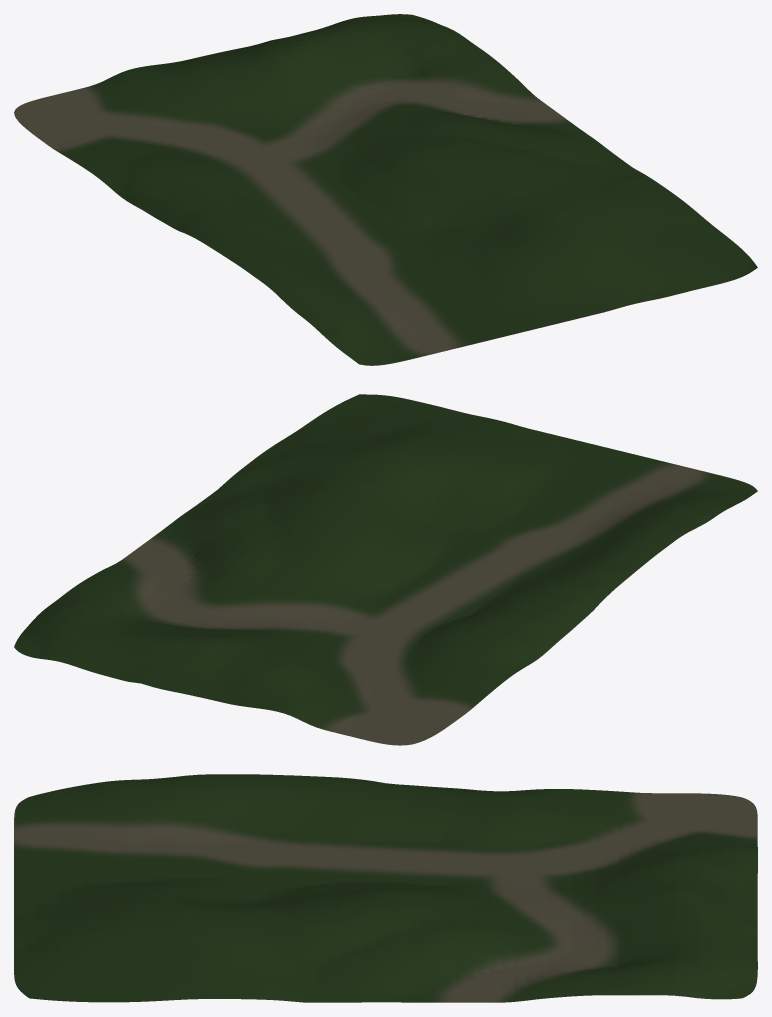
File: Area 4 Map V1.fbx
3 renders of one model, top to bottom at view 1: azimuth 30°, elevation 25°; view 2: azimuth 150°, elevation 25°; view 3: azimuth 270°, elevation 25°, orthographic. The views are drawn at different scales.
Visible parts, largest first — view 1: Plane; view 2: Plane; view 3: Plane.
Part boxes in pixels (x1=…): Plane: x1=14, y1=14, x2=757, y2=365; Plane: x1=14, y1=394, x2=757, y2=745; Plane: x1=14, y1=774, x2=757, y2=1002.
Bounding box in the file's own units: 20021 × 30013 × 1186.
